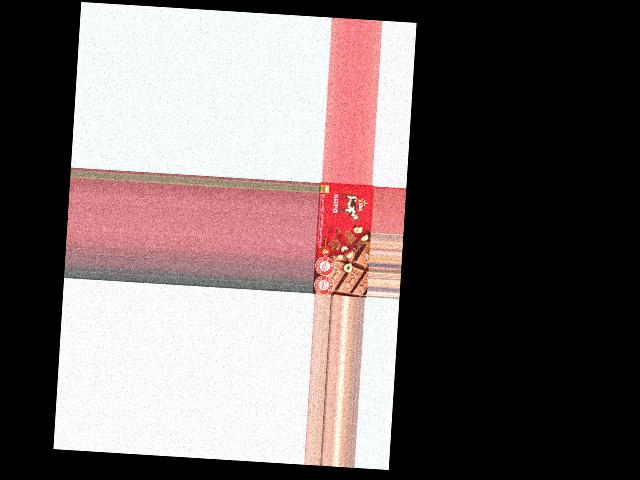chocolate: (314, 181, 373, 296)
